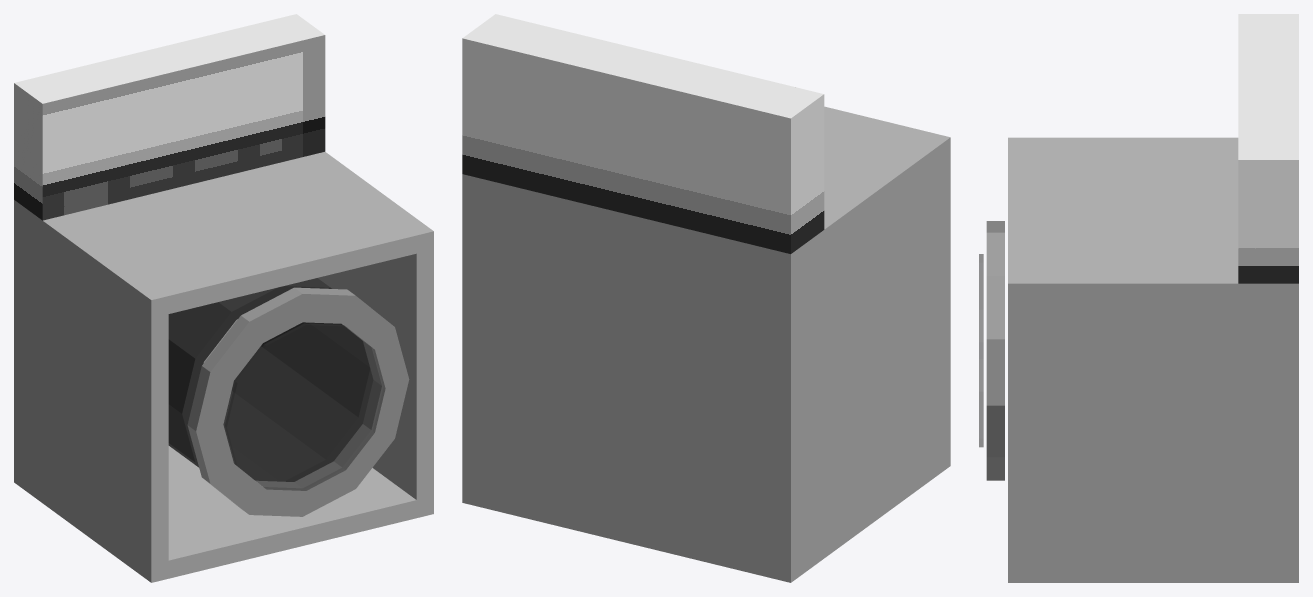
The model's file is washing_machine.glb.
3 renders of one model, left to right at view 1: azimuth 30°, elevation 25°; view 2: azimuth 150°, elevation 25°; view 3: azimuth 270°, elevation 25°, orthographic. The views are drawn at different scales.
Visible parts, largest first — view 1: Washer_Shell, Drum, Round_Door, Washer_Glass; view 2: Washer_Shell; view 3: Washer_Shell, Round_Door, Washer_Glass.
Part boxes in pixels (left/top/right/bottom): Washer_Shell: left=14, top=14, right=433, bottom=582; Drum: left=168, top=278, right=373, bottom=481; Round_Door: left=187, top=287, right=409, bottom=516; Washer_Glass: left=225, top=323, right=385, bottom=490; Washer_Shell: left=462, top=14, right=950, bottom=582; Washer_Shell: left=1008, top=14, right=1298, bottom=582; Round_Door: left=986, top=221, right=1004, bottom=480; Washer_Glass: left=979, top=254, right=983, bottom=447.
Size of what is drawn, in the model's own units: 1.14 by 1.54 by 1.05.
2 materials, 2 textured.
